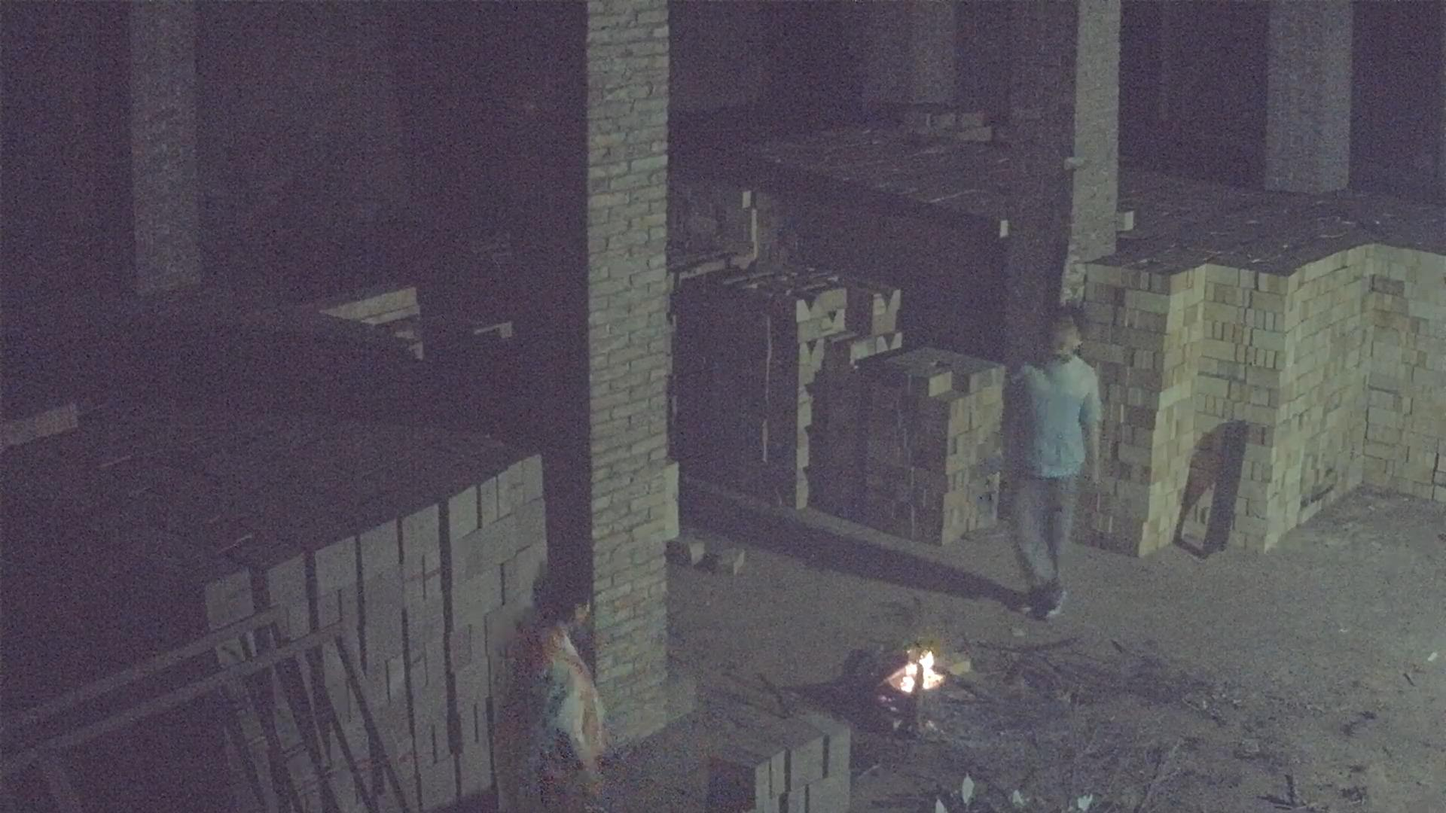fire: (886, 650, 944, 695)
